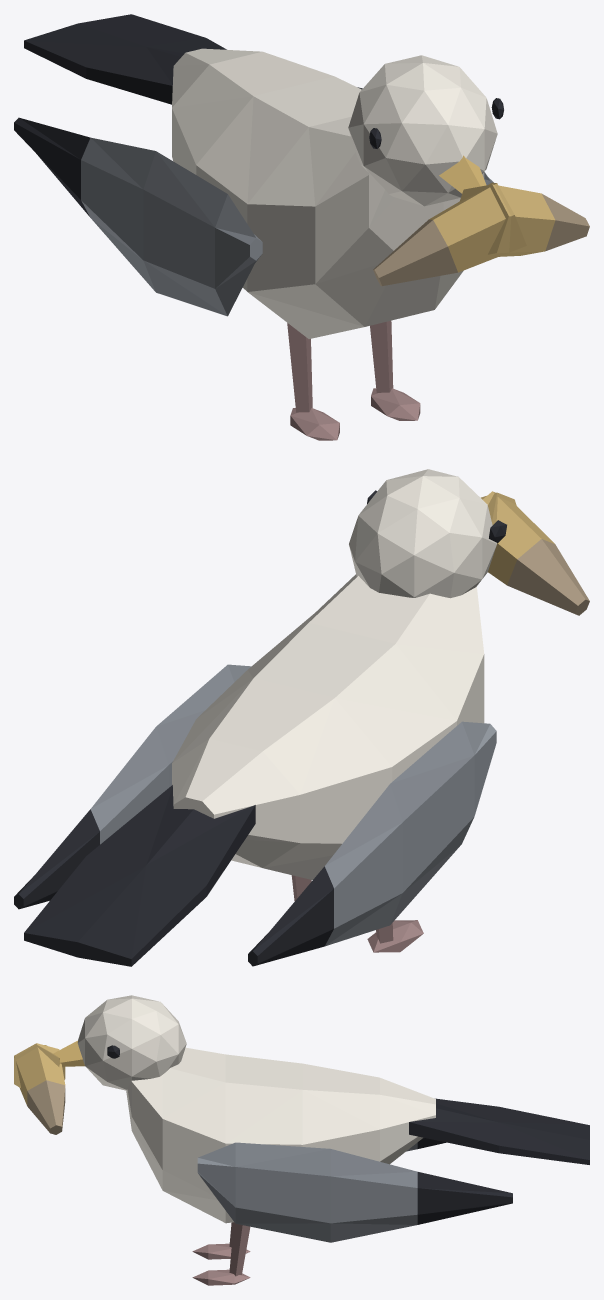
The model's file is Gull.fbx.
3 renders of one model, top to bottom at view 1: azimuth 30°, elevation 25°; view 2: azimuth 150°, elevation 25°; view 3: azimuth 270°, elevation 25°, orthographic. The views are drawn at different scales.
Visible parts, largest first — view 1: Gull_Body, Gull_Head, Gull_WingR_Mesh; view 2: Gull_Body, Gull_WingR_Mesh, Gull_Head, Gull_WingL_Mesh; view 3: Gull_Body, Gull_WingL_Mesh, Gull_Head.
Boxes of the visible parts, x1,y1,x2,y2 form: Gull_Body: [24, 14, 484, 440]; Gull_Head: [348, 55, 589, 286]; Gull_WingR_Mesh: [14, 117, 262, 316]; Gull_Body: [24, 574, 484, 966]; Gull_WingR_Mesh: [248, 721, 496, 966]; Gull_Head: [349, 469, 589, 615]; Gull_WingL_Mesh: [14, 664, 250, 909]; Gull_Body: [126, 1047, 589, 1285]; Gull_WingL_Mesh: [197, 1142, 512, 1242]; Gull_Head: [14, 995, 186, 1134].
Size of the model in its own units: 0.2639 by 0.7647 by 0.3975.
